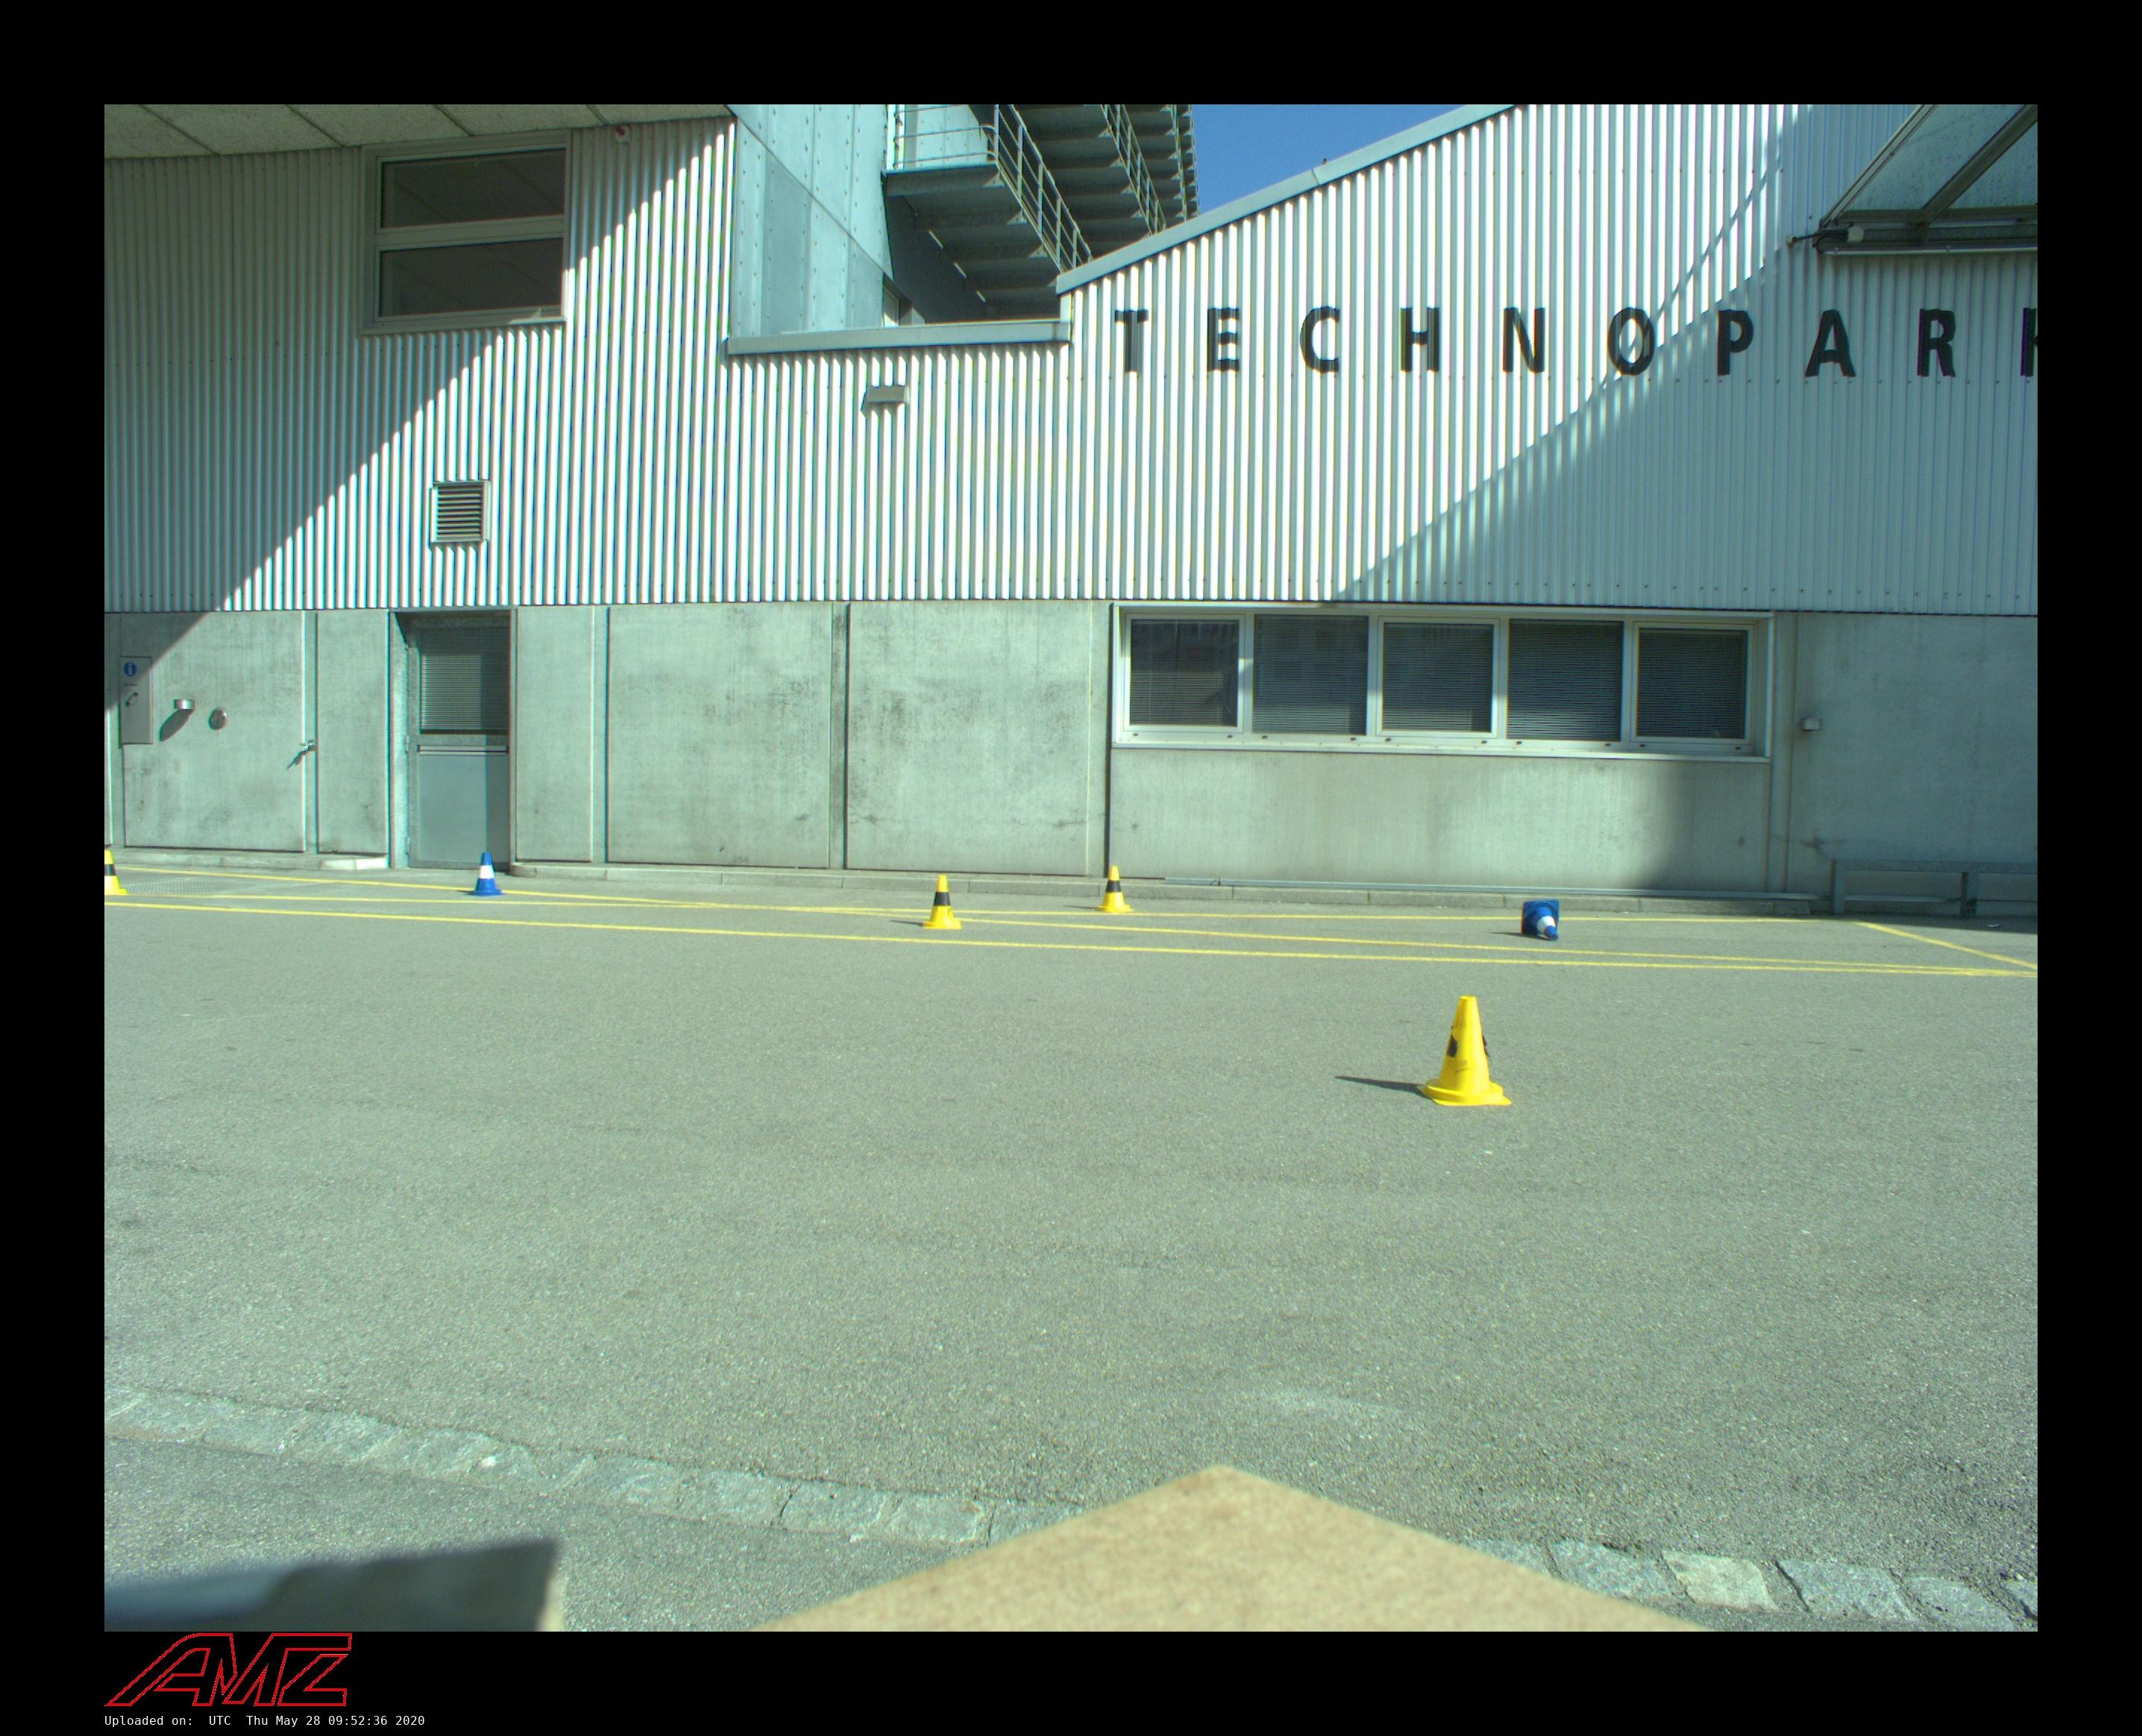blue_cone: (468, 852, 505, 896), (1522, 901, 1560, 941)
yellow_cone: (1417, 996, 1512, 1106), (922, 875, 961, 929), (1092, 867, 1134, 913), (104, 851, 128, 896)
